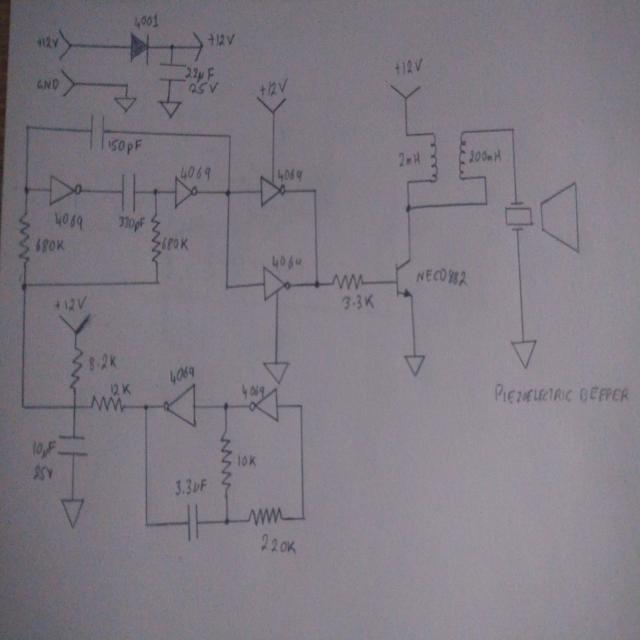capacitor: (117, 170, 140, 214), (86, 110, 108, 155), (56, 432, 89, 461), (183, 500, 201, 543), (156, 60, 188, 84)
crossover: (69, 401, 79, 412)
diode: (127, 28, 150, 68)
ground: (508, 337, 541, 370), (58, 494, 86, 530), (260, 357, 292, 385), (401, 352, 427, 379), (157, 98, 183, 120), (112, 95, 137, 114)
inductor: (454, 129, 468, 183), (428, 128, 440, 185)
junction: (223, 187, 237, 200), (221, 514, 232, 528), (220, 398, 231, 412), (18, 280, 30, 292), (22, 182, 32, 196), (298, 512, 309, 524), (403, 202, 412, 215), (223, 280, 232, 293), (151, 184, 160, 197), (312, 278, 322, 289), (18, 400, 27, 412), (140, 402, 150, 412), (143, 519, 151, 530), (167, 41, 175, 52), (310, 186, 320, 194), (297, 400, 305, 410), (483, 197, 490, 208), (24, 120, 31, 131), (226, 131, 234, 140), (153, 276, 160, 286), (122, 81, 130, 89), (509, 125, 516, 134), (481, 173, 488, 180), (405, 178, 411, 186), (404, 130, 410, 138)
resistor: (217, 426, 234, 492), (15, 210, 34, 266), (147, 211, 165, 265), (88, 392, 126, 417), (244, 505, 285, 528), (67, 344, 84, 394), (331, 271, 366, 291)
terminal: (57, 312, 93, 336), (387, 81, 424, 102), (254, 95, 288, 116), (58, 66, 75, 101), (57, 26, 72, 61), (191, 29, 205, 62)
text: (492, 381, 632, 408), (414, 264, 471, 288), (258, 530, 298, 560), (52, 209, 86, 234), (339, 290, 377, 312), (172, 476, 210, 498), (106, 136, 144, 158), (86, 350, 118, 374), (167, 362, 197, 386), (258, 75, 288, 98), (392, 56, 425, 76), (34, 236, 66, 256), (116, 213, 146, 234), (160, 233, 191, 253), (178, 163, 212, 181), (29, 436, 56, 458), (270, 252, 302, 270), (185, 63, 215, 82), (467, 148, 502, 164), (30, 461, 54, 484), (53, 294, 87, 310), (187, 80, 219, 96), (239, 381, 265, 400), (208, 31, 235, 49), (34, 77, 62, 94), (234, 451, 258, 470), (34, 34, 58, 53), (276, 167, 304, 183), (132, 14, 160, 30), (397, 150, 421, 168), (107, 381, 132, 397)
transistor: (392, 256, 416, 300)
